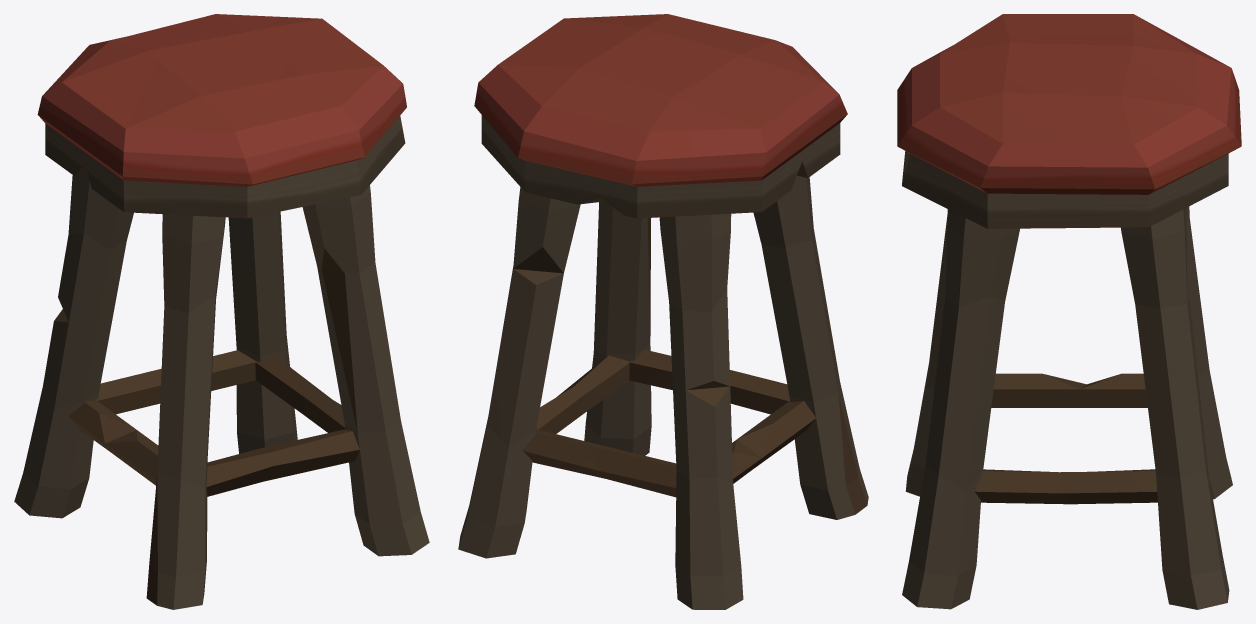
The model's file is SM_Prop_Stool_01.glb.
3 views of the same model, side by side, from view 1: azimuth 30°, elevation 25°; view 2: azimuth 150°, elevation 25°; view 3: azimuth 270°, elevation 25° (orthographic). The views are drawn at different scales.
Parts seen in each view (by area): view 1: SM_Prop_Stool_01; view 2: SM_Prop_Stool_01; view 3: SM_Prop_Stool_01.
Part boxes in pixels (x1,y1,x2,y2): SM_Prop_Stool_01: [14, 14, 429, 609]; SM_Prop_Stool_01: [458, 14, 868, 609]; SM_Prop_Stool_01: [897, 14, 1241, 609].
Size of the model in its own units: 42.01 by 64.6 by 42.35.
Materials: 1 (1 with a texture image).
